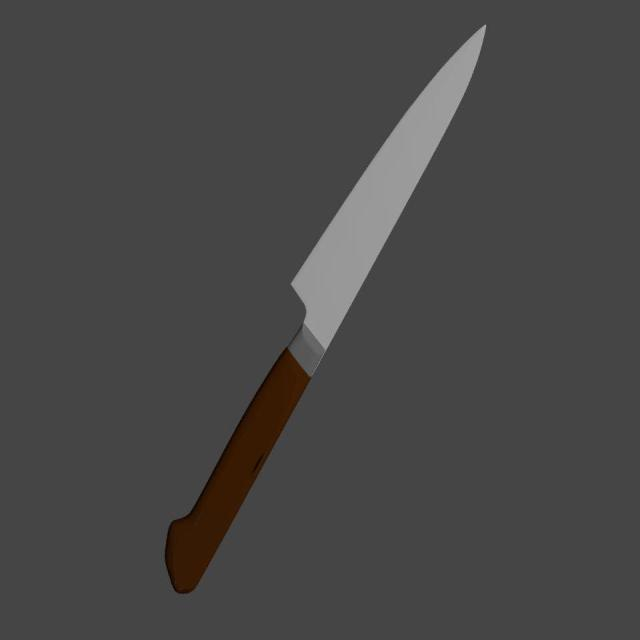knife: (164, 346, 312, 594)
